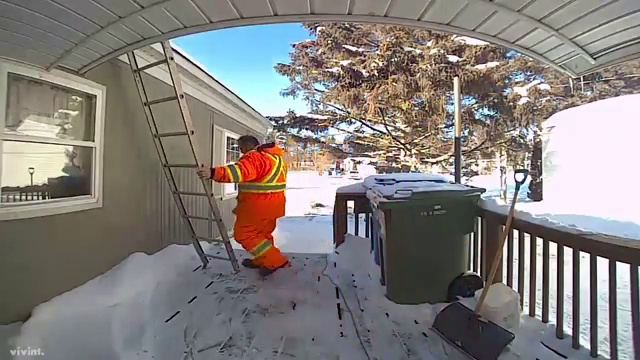face: (236, 138, 250, 156)
